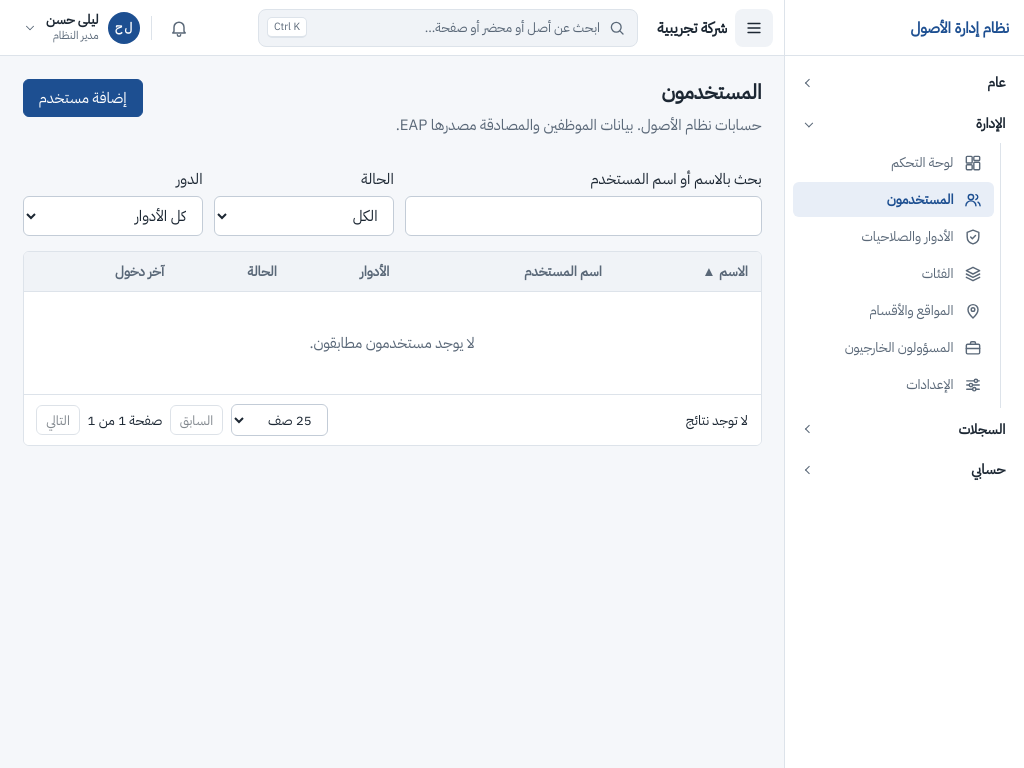
Test case: Users › shows the server field error next to the username
Click the button "إضافة مستخدم" at (83, 98), box [22,78,143,116]
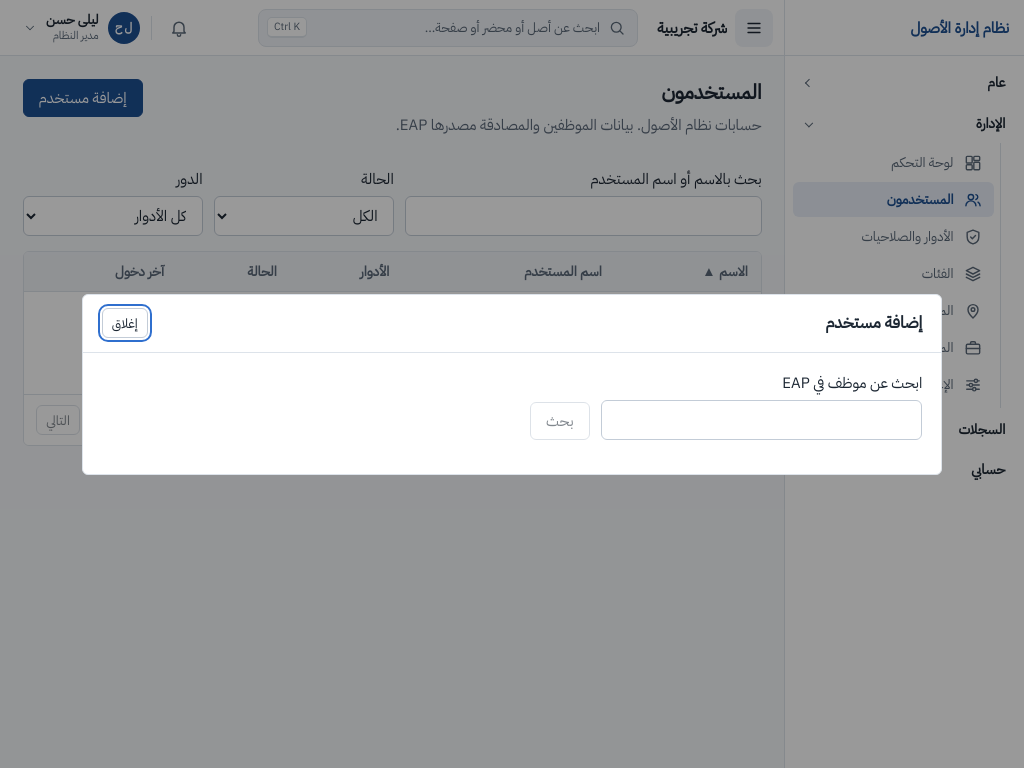
Type "رنا" into the field labelled "ابحث عن موظف في EAP" at (762, 420), box [601,400,922,440]
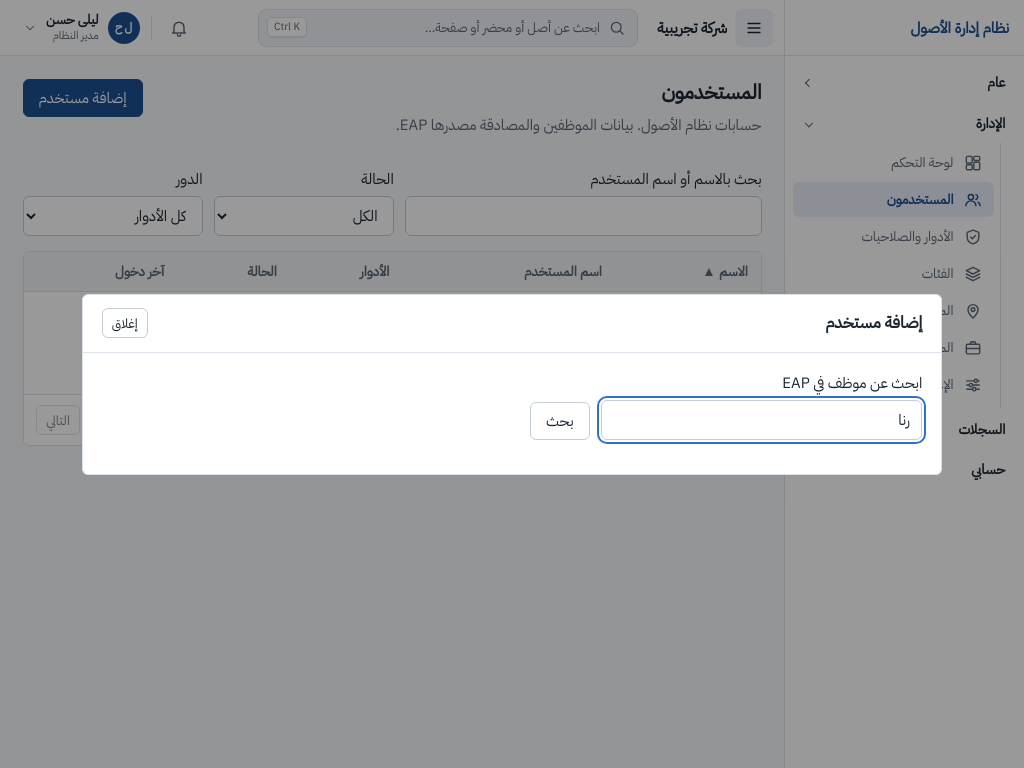
Click the button "بحث" at (560, 421), box [530,402,590,440]
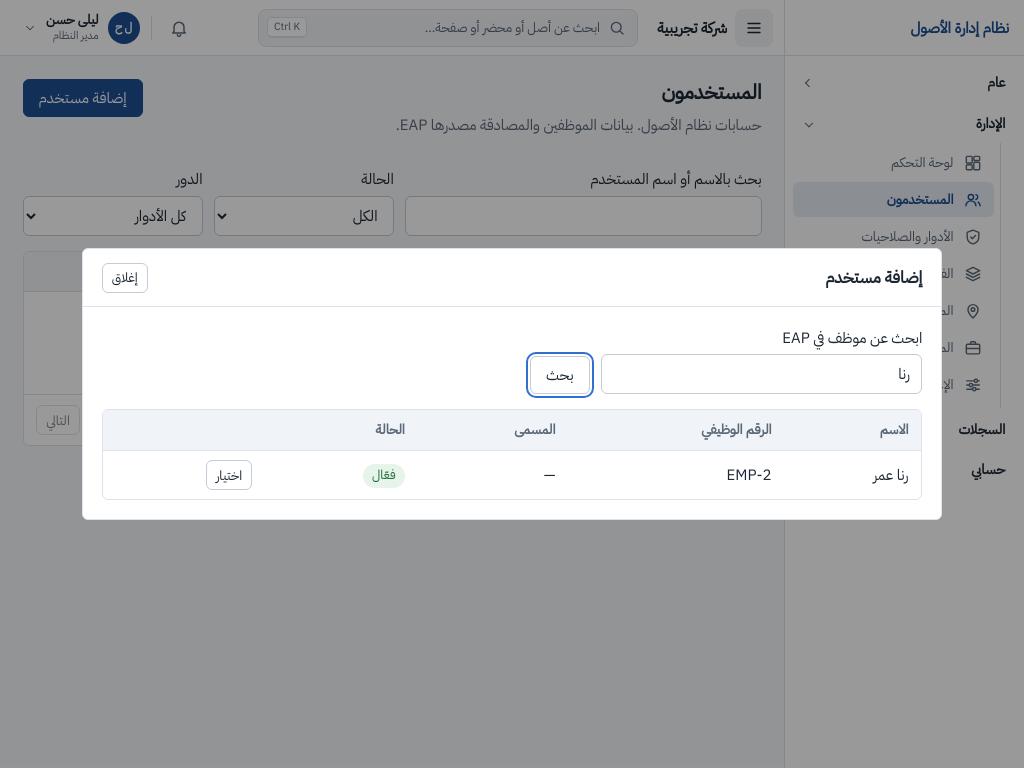
Click the button "اختيار" at (229, 475), box [206,460,252,490]
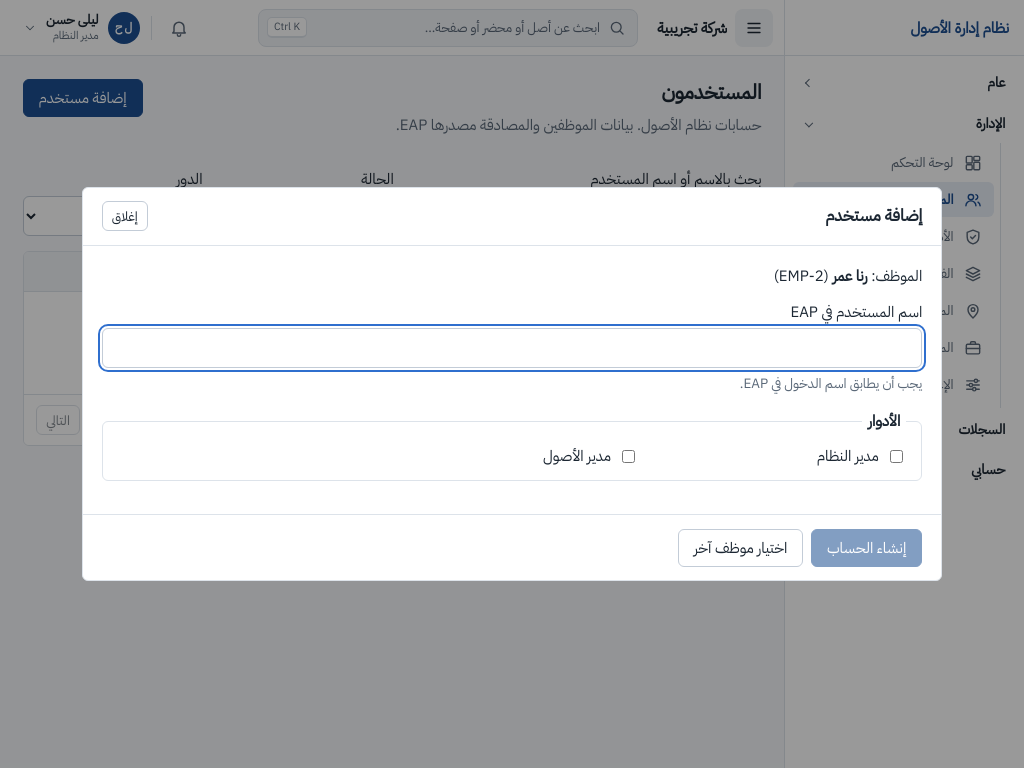
Type "bad name" into the field labelled "اسم المستخدم في EAP" at (512, 348), box [102,328,922,368]
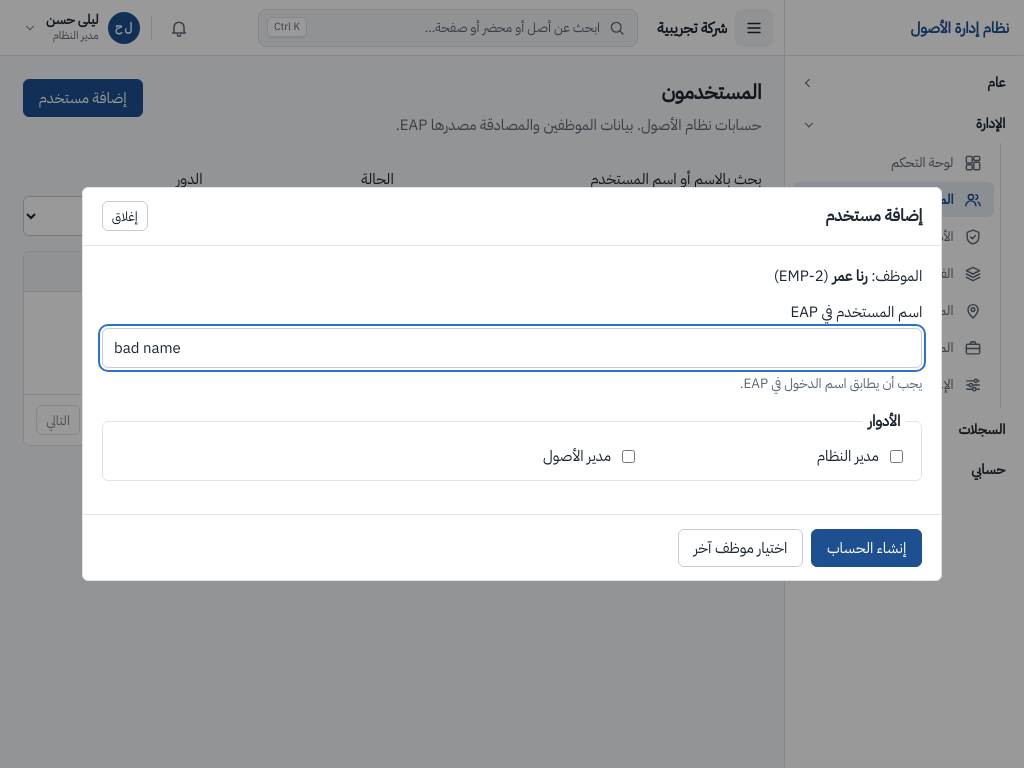
Click the button "إنشاء الحساب" at (867, 548), box [811,529,922,567]
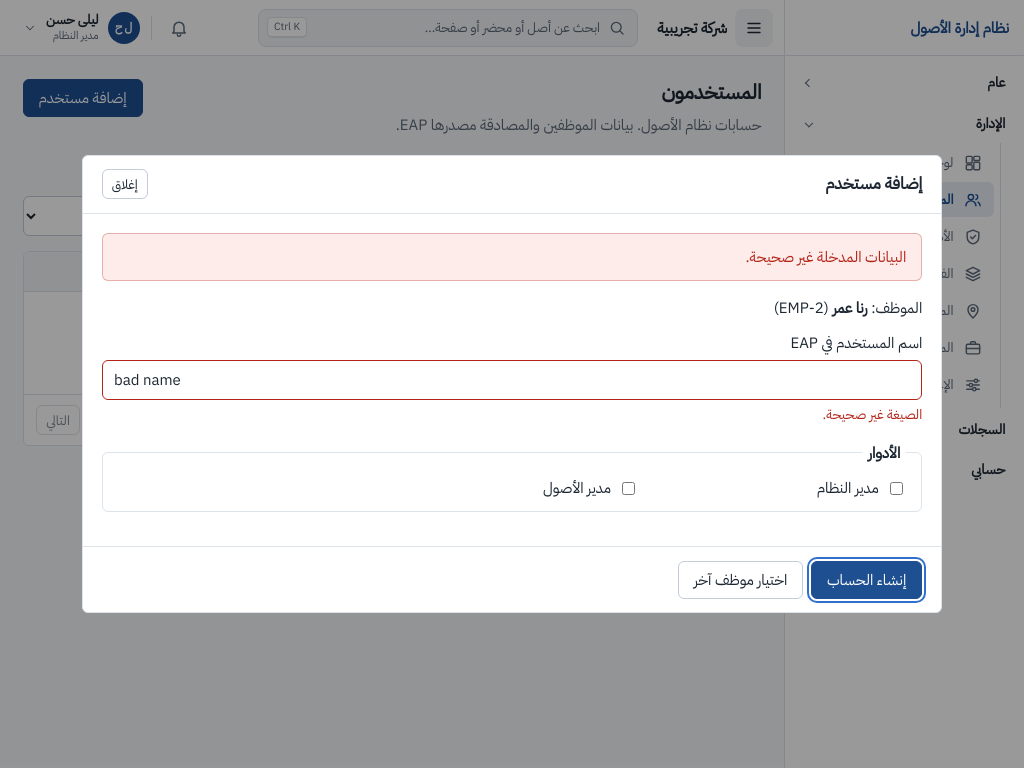
Result: the text "الصيغة غير صحيحة." is shown at [823,404,922,425]
